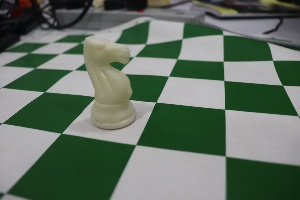white_horse: (74, 29, 141, 145)
